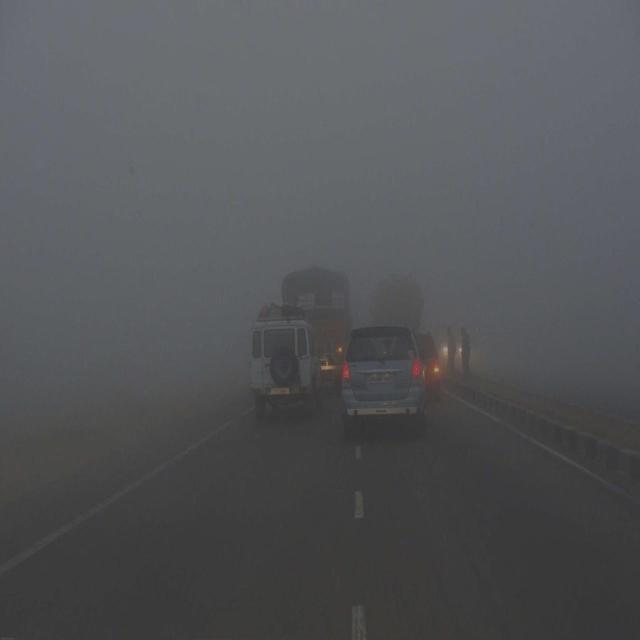Car: (341, 324, 426, 432), (250, 304, 324, 412)
Truck: (281, 266, 351, 394)
